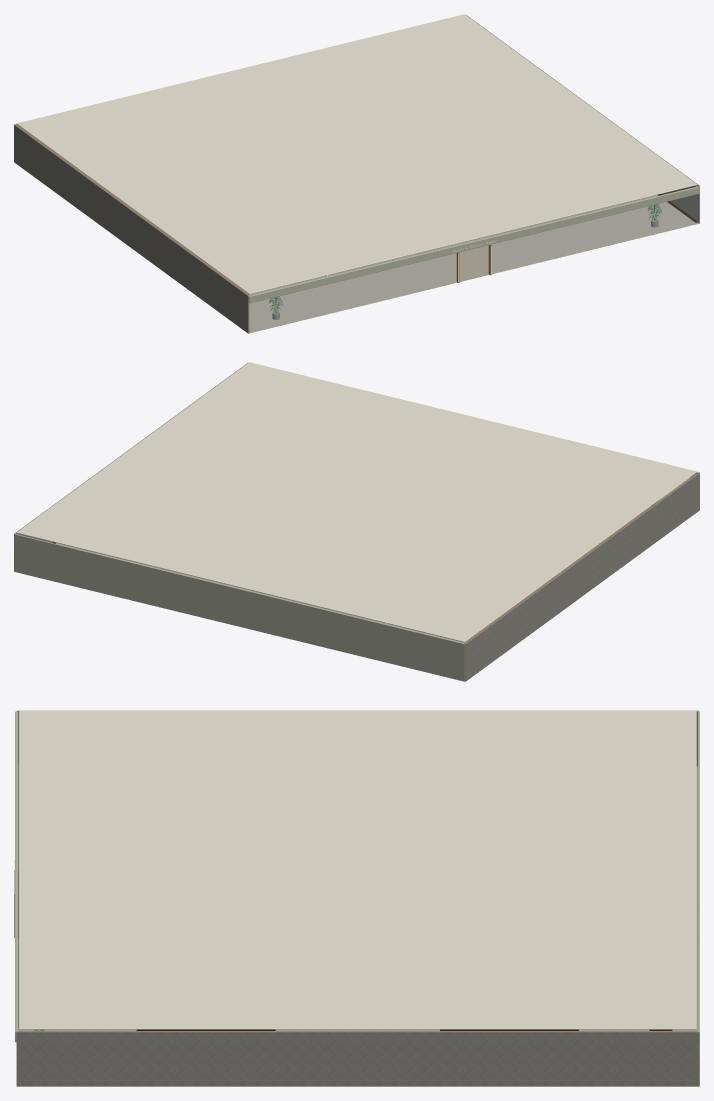
Rendered from beauty-spa.glb.
3 views of the same model, one above another, from view 1: azimuth 30°, elevation 25°; view 2: azimuth 150°, elevation 25°; view 3: azimuth 270°, elevation 25° (orthographic). The views are drawn at different scales.
Visible parts, largest first — view 1: Batched AUR-L4-BEAUTY-SPA::Warm porcelain, Tenant floor beauty-spa, Batched AUR-L4-BEAUTY-SPA::Tenant glass, Batched AUR-L4-BEAUTY-SPA::Travertine, Batched AUR-L4-BEAUTY-SPA::Tenant beauty-spa, Batched AUR-L4-BEAUTY-SPA::Bronze; view 2: Batched AUR-L4-BEAUTY-SPA::Warm porcelain, Batched AUR-L4-BEAUTY-SPA::Tenant beauty-spa, Batched AUR-L4-BEAUTY-SPA::Travertine, Tenant floor beauty-spa; view 3: Batched AUR-L4-BEAUTY-SPA::Warm porcelain, Batched AUR-L4-BEAUTY-SPA::Travertine, Batched AUR-L4-BEAUTY-SPA::Tenant beauty-spa, Tenant floor beauty-spa, Batched AUR-L4-BEAUTY-SPA::Bronze, Batched AUR-L4-BEAUTY-SPA::Walnut.
Part boxes in pixels (x1,y1,x2,y2): Batched AUR-L4-BEAUTY-SPA::Warm porcelain: [16, 14, 697, 294]; Tenant floor beauty-spa: [55, 152, 698, 333]; Batched AUR-L4-BEAUTY-SPA::Tenant glass: [249, 194, 698, 332]; Batched AUR-L4-BEAUTY-SPA::Travertine: [14, 15, 699, 333]; Batched AUR-L4-BEAUTY-SPA::Tenant beauty-spa: [14, 124, 699, 303]; Batched AUR-L4-BEAUTY-SPA::Bronze: [17, 125, 696, 295]; Batched AUR-L4-BEAUTY-SPA::Warm porcelain: [16, 362, 697, 642]; Batched AUR-L4-BEAUTY-SPA::Tenant beauty-spa: [14, 472, 699, 681]; Batched AUR-L4-BEAUTY-SPA::Travertine: [14, 363, 699, 681]; Tenant floor beauty-spa: [56, 500, 658, 643]; Batched AUR-L4-BEAUTY-SPA::Warm porcelain: [14, 710, 696, 1029]; Batched AUR-L4-BEAUTY-SPA::Travertine: [16, 710, 698, 1086]; Batched AUR-L4-BEAUTY-SPA::Tenant beauty-spa: [15, 711, 699, 1086]; Tenant floor beauty-spa: [18, 766, 697, 1031]; Batched AUR-L4-BEAUTY-SPA::Bronze: [14, 870, 694, 1031]; Batched AUR-L4-BEAUTY-SPA::Walnut: [41, 1029, 672, 1030].
Bounding box in the file's own units: 60.16 × 4.97 × 54.29.
12 materials, 4 textured.
